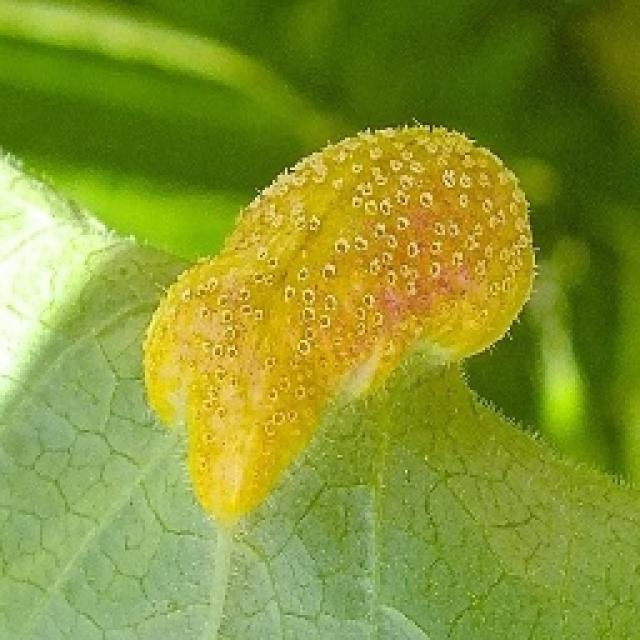Elderberry_rust: (122, 128, 552, 520)
